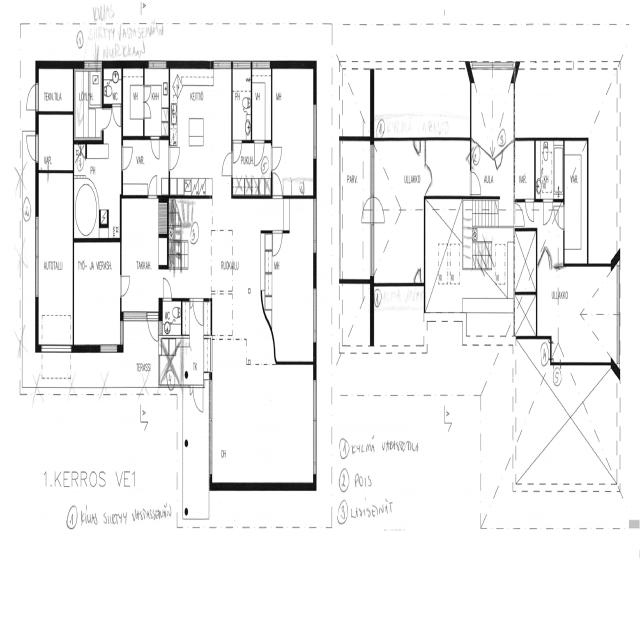door: (162, 295, 180, 334), (24, 129, 40, 164), (544, 199, 563, 228), (516, 199, 536, 226), (190, 294, 204, 328), (25, 80, 40, 111), (167, 141, 181, 173), (192, 378, 205, 412), (270, 142, 284, 172), (147, 311, 160, 342), (120, 141, 133, 171), (220, 147, 233, 177), (360, 194, 373, 224), (119, 271, 132, 300), (100, 102, 113, 131), (272, 168, 284, 198), (470, 167, 482, 196), (254, 138, 265, 169), (147, 171, 159, 199), (161, 274, 173, 302), (272, 227, 283, 257), (372, 195, 384, 222), (553, 201, 565, 228), (150, 133, 161, 161), (424, 161, 434, 190), (111, 100, 122, 126), (515, 201, 526, 226), (543, 198, 553, 225), (233, 138, 243, 164), (525, 198, 535, 222), (142, 92, 152, 116), (412, 134, 422, 156), (414, 264, 424, 284)
window: (614, 372, 622, 472), (311, 373, 318, 478), (33, 232, 41, 302), (615, 258, 623, 326), (208, 380, 213, 478), (311, 281, 318, 348), (311, 99, 318, 162), (40, 339, 71, 353), (311, 195, 318, 256), (369, 223, 375, 276), (123, 308, 148, 320), (369, 146, 375, 196), (211, 56, 232, 70), (147, 57, 168, 71), (99, 340, 119, 354), (473, 59, 494, 72), (34, 212, 40, 255), (253, 58, 271, 72), (492, 60, 513, 72), (234, 58, 252, 70), (82, 59, 99, 70), (119, 318, 125, 344)
zone: (212, 198, 314, 484), (537, 259, 620, 361), (170, 65, 231, 192), (36, 166, 73, 343), (271, 64, 315, 196), (121, 194, 167, 314), (471, 65, 514, 190), (74, 238, 122, 347), (211, 206, 263, 301), (340, 137, 372, 280), (170, 194, 213, 296), (425, 196, 463, 310), (372, 138, 427, 212), (373, 205, 425, 283), (373, 282, 425, 351), (564, 137, 588, 262), (181, 294, 212, 387), (426, 138, 472, 195), (230, 139, 272, 198), (341, 63, 372, 137), (37, 112, 74, 171), (74, 64, 102, 140), (143, 65, 170, 138), (535, 138, 563, 200), (538, 200, 564, 266), (37, 66, 74, 111), (122, 65, 144, 139), (251, 65, 272, 140), (232, 63, 252, 139), (514, 138, 536, 202), (161, 298, 182, 344), (160, 342, 183, 382), (102, 64, 122, 104)
